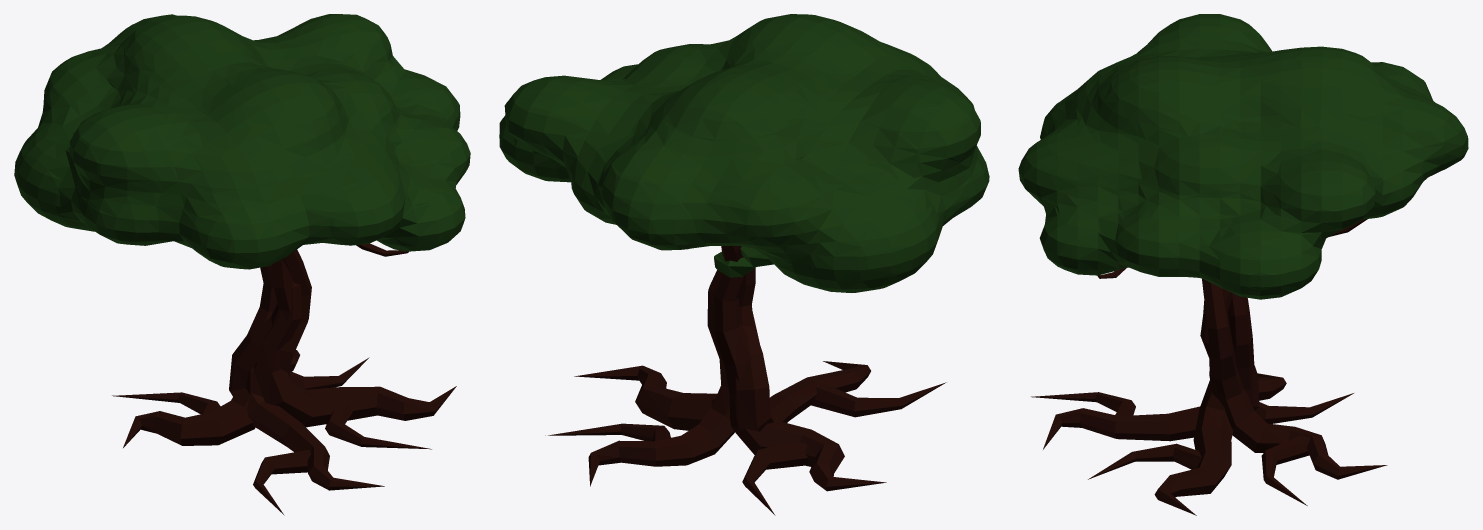
Rendered from tree.gltf.
3 views of the same model, side by side, from view 1: azimuth 30°, elevation 25°; view 2: azimuth 150°, elevation 25°; view 3: azimuth 270°, elevation 25° (orthographic). The views are drawn at different scales.
Visible parts, largest first — view 1: root; view 2: root; view 3: root.
Part boxes in pixels (x1,y1,x2,y2): root: (14,14,470,515); root: (499,14,989,515); root: (1018,14,1468,515).
Size of the model in its own units: 2.44 by 2.17 by 2.37.
